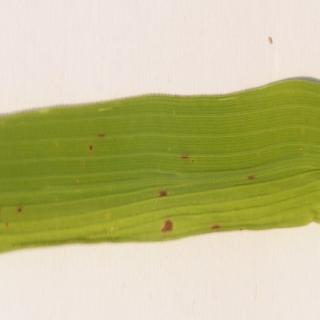bercak-Cokelat: (87, 127, 115, 151), (162, 216, 182, 236), (152, 183, 170, 201), (178, 150, 195, 164), (205, 223, 223, 235), (242, 174, 256, 184)
